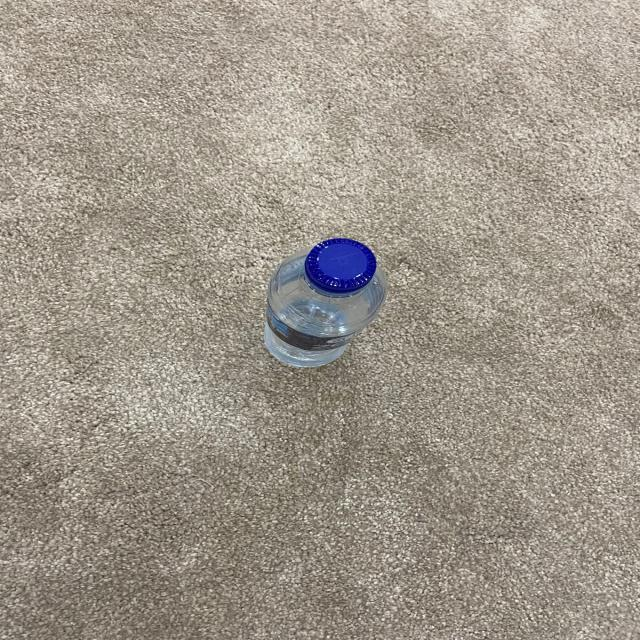chai: (264, 238, 385, 368)
